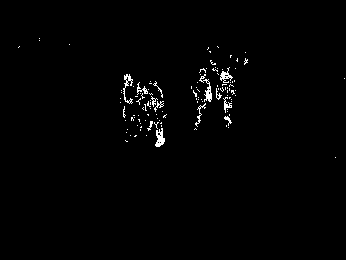person: (140, 78, 167, 147), (119, 70, 140, 143), (191, 67, 213, 133), (215, 67, 238, 127)
